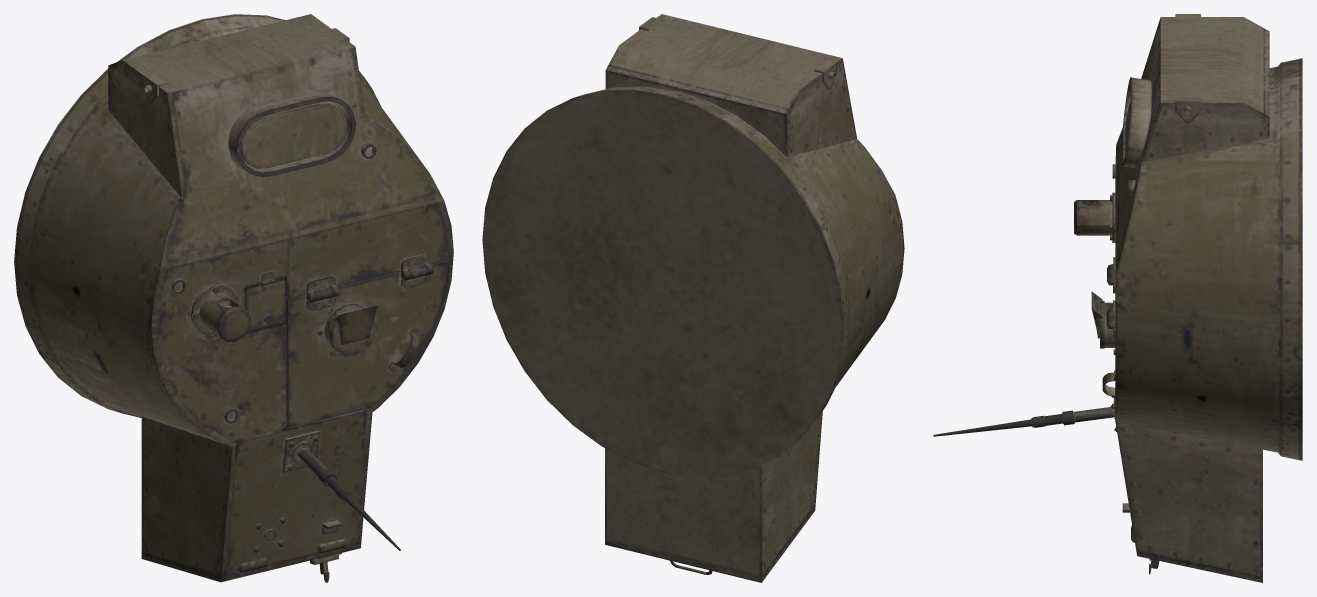
File: Turret_01.glb
3 views of the same model, side by side, from view 1: azimuth 30°, elevation 25°; view 2: azimuth 150°, elevation 25°; view 3: azimuth 270°, elevation 25° (orthographic). The views are drawn at different scales.
Parts seen in each view (by area): view 1: set_0_group_0; view 2: set_0_group_0; view 3: set_0_group_0.
Part boxes in pixels (box(x1,y1,x2,y2)): set_0_group_0: box(14, 14, 453, 582); set_0_group_0: box(482, 14, 904, 582); set_0_group_0: box(933, 14, 1302, 582).
Bounding box in the file's own units: 1.41 × 1.9 × 1.29.
1 material, 1 textured.
